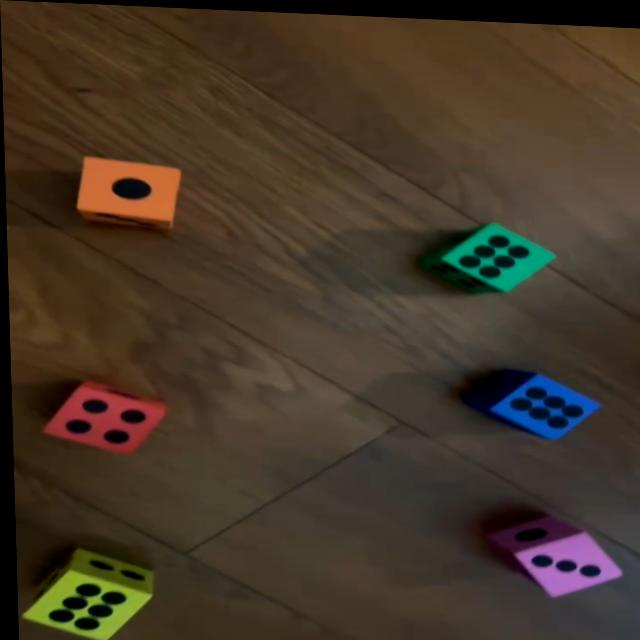blue_block: (465, 365, 600, 436)
red_block: (41, 379, 166, 454)
